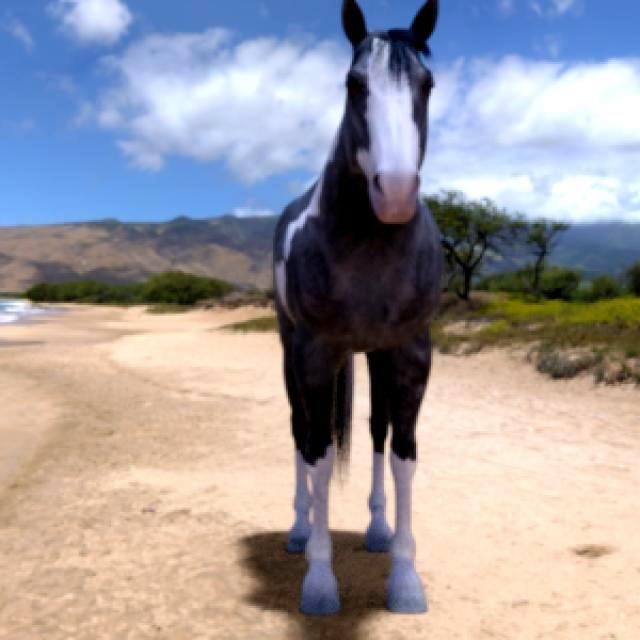horse: (275, 0, 442, 614)
